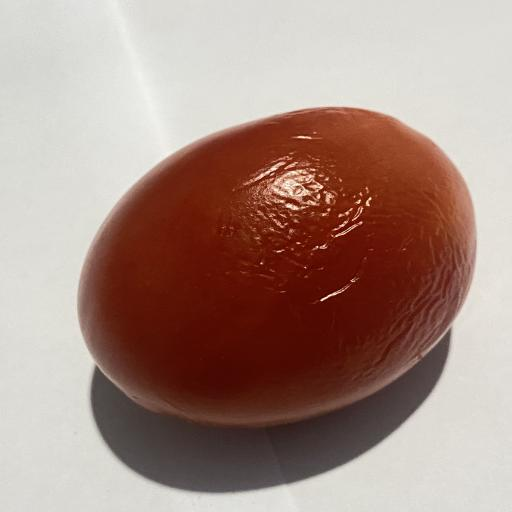spoiled: (79, 107, 475, 426)
